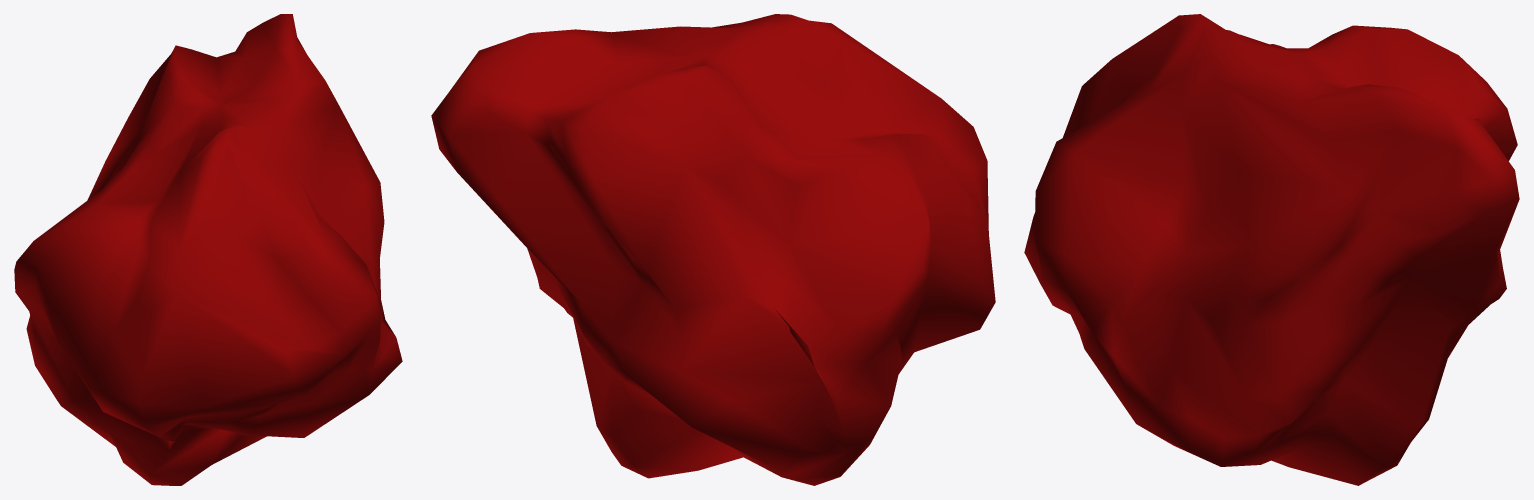
File: Asteroid6.FBX
The picture shows the model from 3 angles, left to right: view 1: azimuth 30°, elevation 25°; view 2: azimuth 150°, elevation 25°; view 3: azimuth 270°, elevation 25°; orthographic projection. The views are drawn at different scales.
Parts seen in each view (by area): view 1: Sphere10; view 2: Sphere10; view 3: Sphere10.
Boxes of the visible parts, <box> form: Sphere10: <box>14,14,402,485</box>; Sphere10: <box>431,14,995,485</box>; Sphere10: <box>1024,14,1519,485</box>.
Size of the model in its own units: 700 by 700 by 685.
